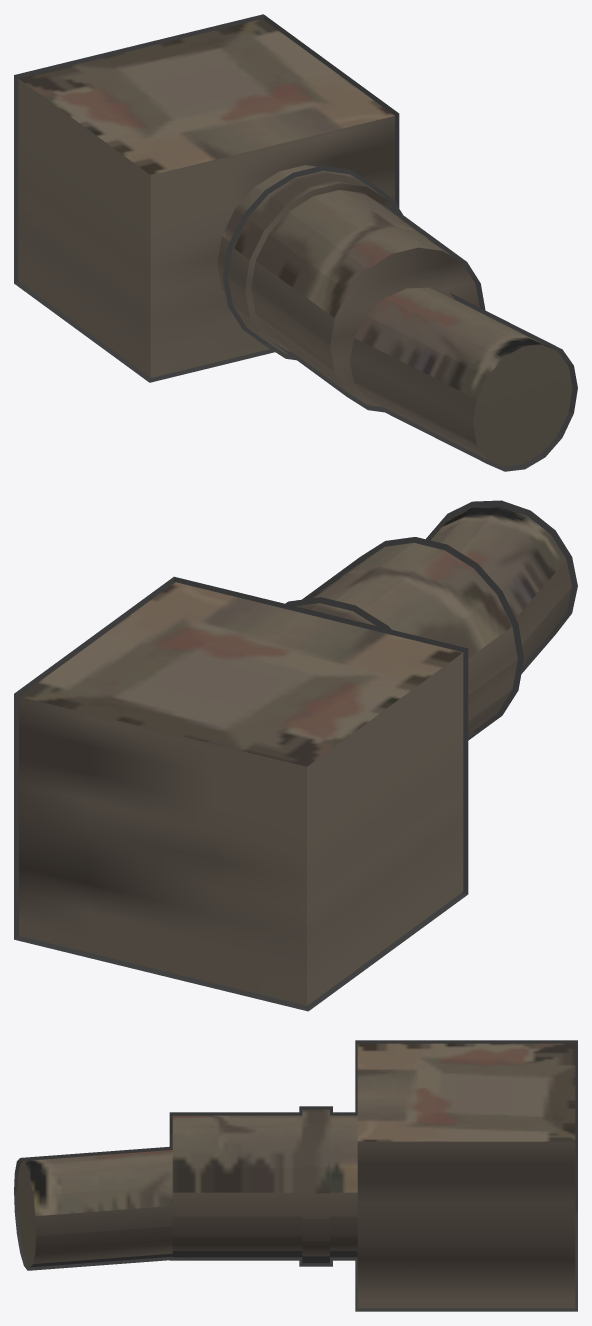
Rendered from Building_AncientMegaCannonBarrel.glb.
3 renders of one model, top to bottom at view 1: azimuth 30°, elevation 25°; view 2: azimuth 150°, elevation 25°; view 3: azimuth 270°, elevation 25°, orthographic. The views are drawn at different scales.
Parts seen in each view (by area): view 1: AncientMegaCannonBarrel, Outline; view 2: AncientMegaCannonBarrel, Outline; view 3: AncientMegaCannonBarrel, Outline.
Boxes of the visible parts, x1=… form: AncientMegaCannonBarrel: x1=18, y1=19, x2=572, y2=466; Outline: x1=14, y1=14, x2=577, y2=471; AncientMegaCannonBarrel: x1=19, y1=506, x2=571, y2=1005; Outline: x1=14, y1=500, x2=577, y2=1011; AncientMegaCannonBarrel: x1=17, y1=1043, x2=575, y2=1308; Outline: x1=14, y1=1040, x2=577, y2=1311.
Size of the model in its own units: 0.7986 by 0.6373 by 1.9.
2 materials, 1 textured.
